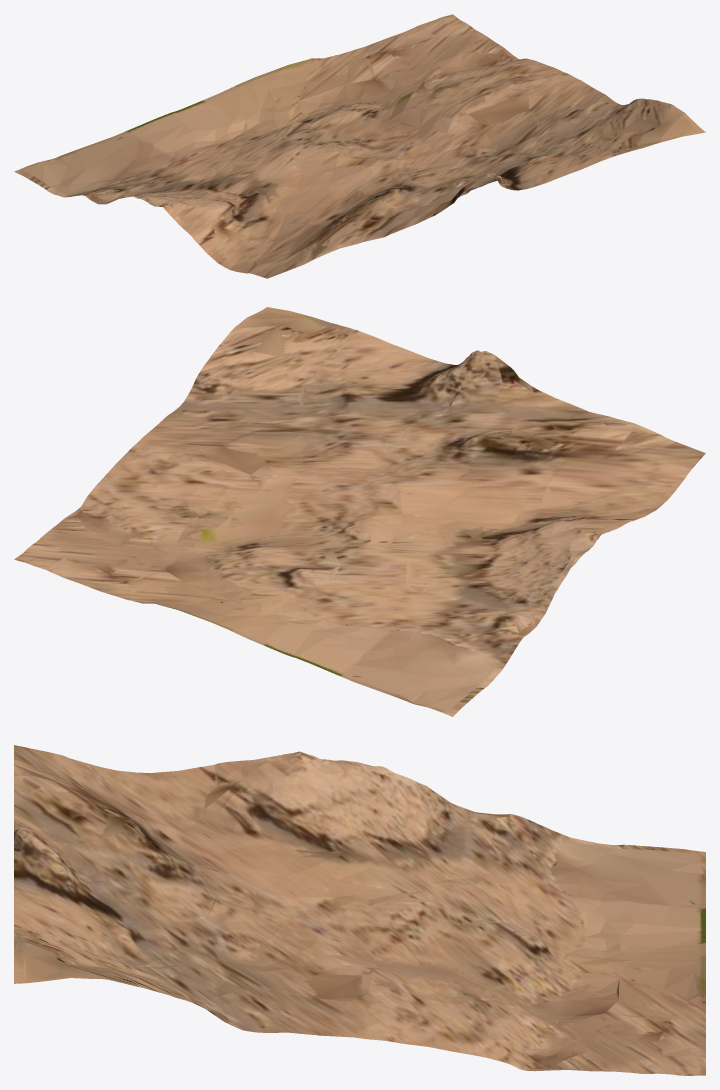
3 views of the same model, one above another, from view 1: azimuth 30°, elevation 25°; view 2: azimuth 150°, elevation 25°; view 3: azimuth 270°, elevation 25° (orthographic). The views are drawn at different scales.
Bounding box in the file's own units: 4.18 × 1.16 × 4.18.
Materials: 2 (2 with a texture image).
